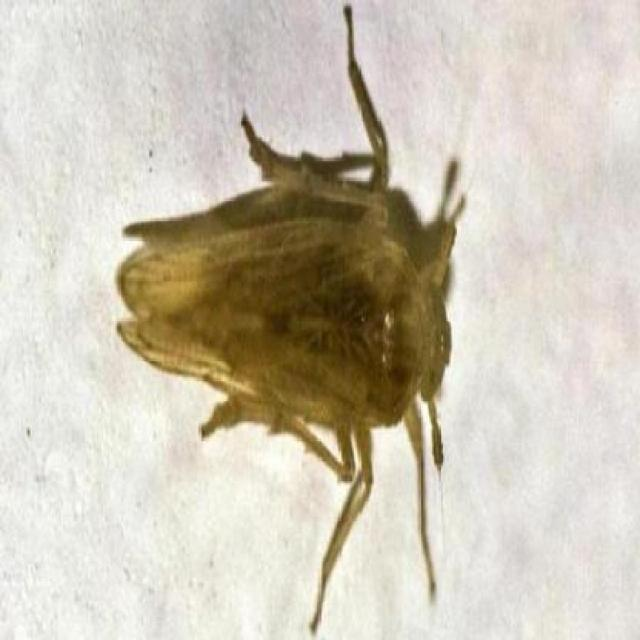brown-planthopper: (125, 144, 463, 476)
